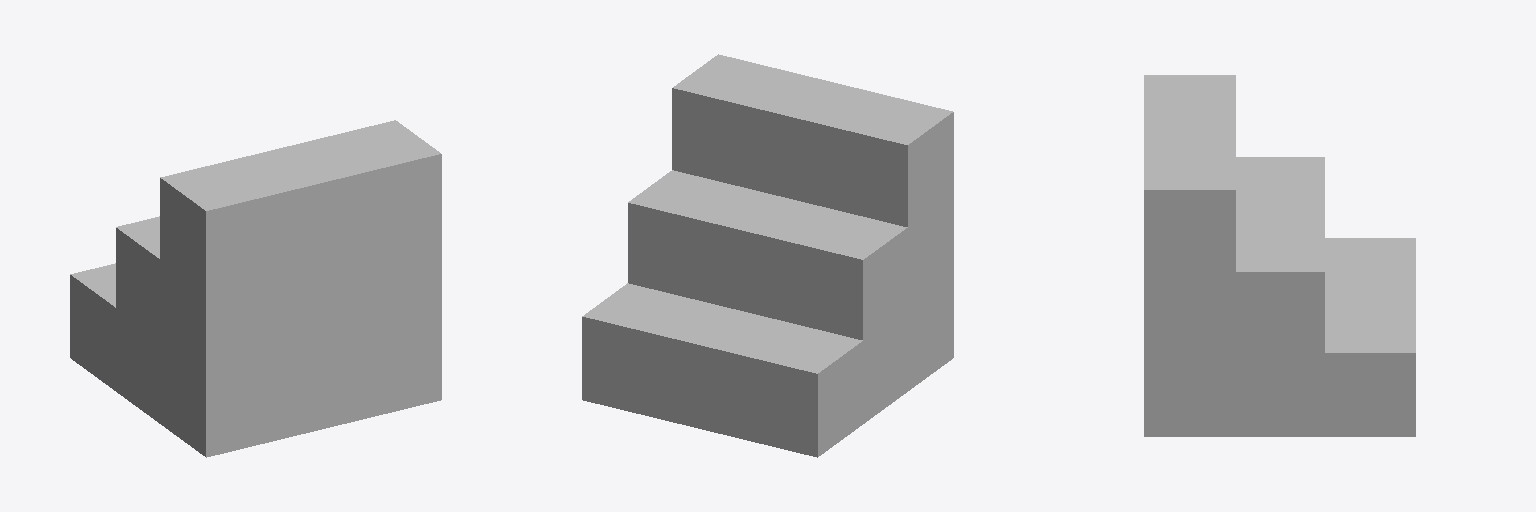
The model's file is stairz-.obj.
The picture shows the model from 3 angles: view 1: azimuth 30°, elevation 25°; view 2: azimuth 150°, elevation 25°; view 3: azimuth 270°, elevation 25°; orthographic projection.
Visible parts, largest first — view 1: Cube; view 2: Cube; view 3: Cube.
Boxes of the visible parts, x1,y1,x2,y2 form: Cube: [70, 120, 441, 457]; Cube: [582, 54, 953, 457]; Cube: [1144, 75, 1415, 436].
Bounding box in the file's own units: 1 × 1 × 1.